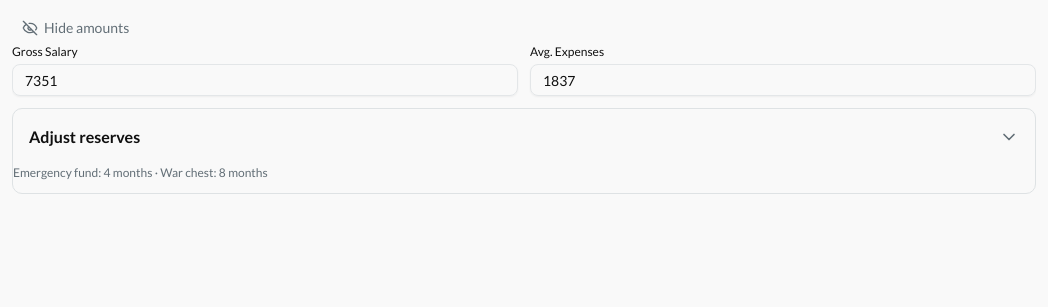
Test case: asset amount presentation › preserves an edited planner draft while concealing all already-open numeric inputs
This screenshot has width=1048, height=307.
Replace the text in the number field labelled "Gross Salary" with "8257" at [265, 80], box [12, 64, 518, 96]
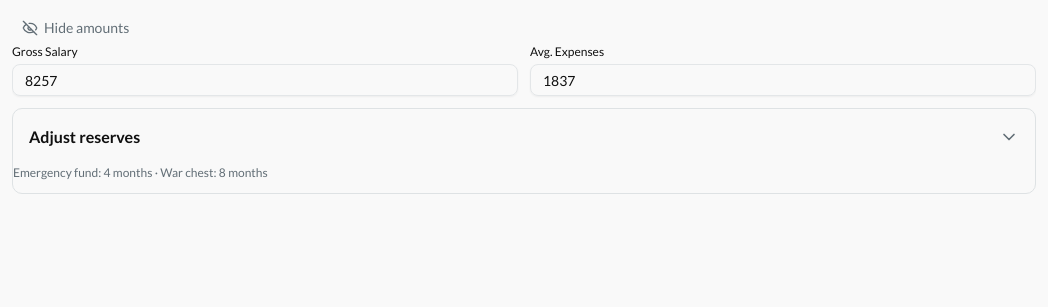
Click the button "Adjust reserves" at [85, 136], box [13, 109, 1035, 165]
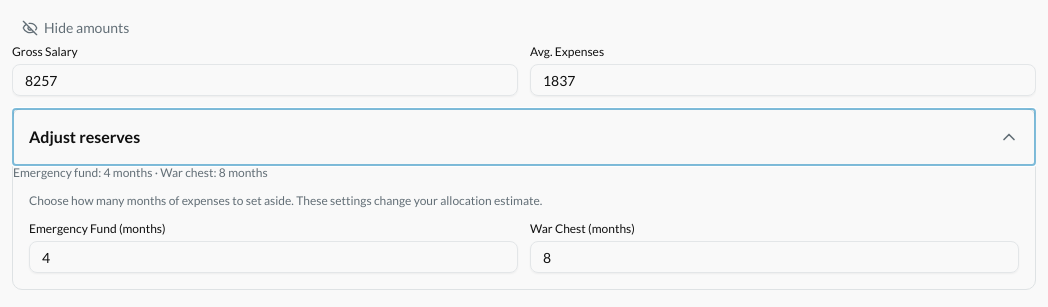
Click the button "Hide amounts" at [76, 28], box [12, 12, 139, 44]
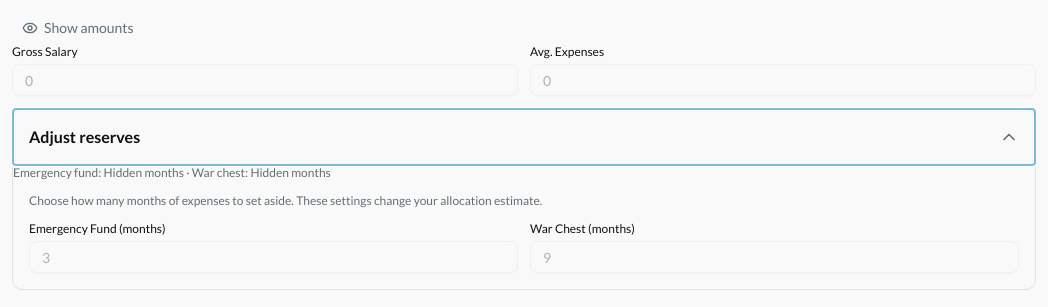
Check: the number field labelled "Gross Salary" is not empty, box [12, 64, 518, 96]
Check: the number field labelled "Gross Salary" is disabled, box [12, 64, 518, 96]
Check: the number field labelled "Avg. Expenses" is not empty, box [530, 64, 1036, 96]
Click the button "Show amounts" at [78, 28], box [12, 12, 144, 44]
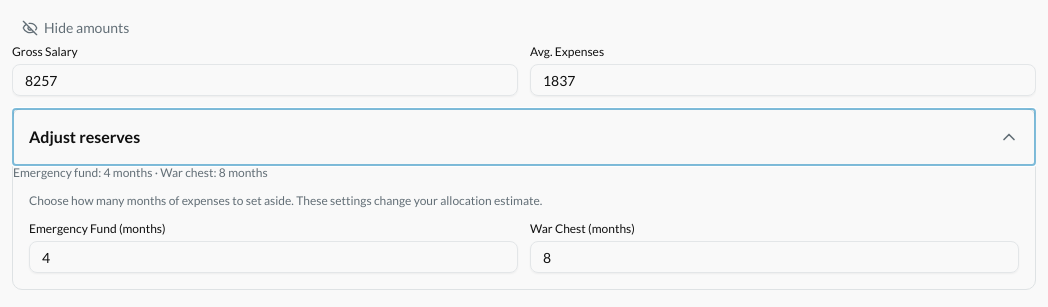
Check: the number field labelled "Emergency Fund (months)" holds "4", box [29, 241, 518, 273]
